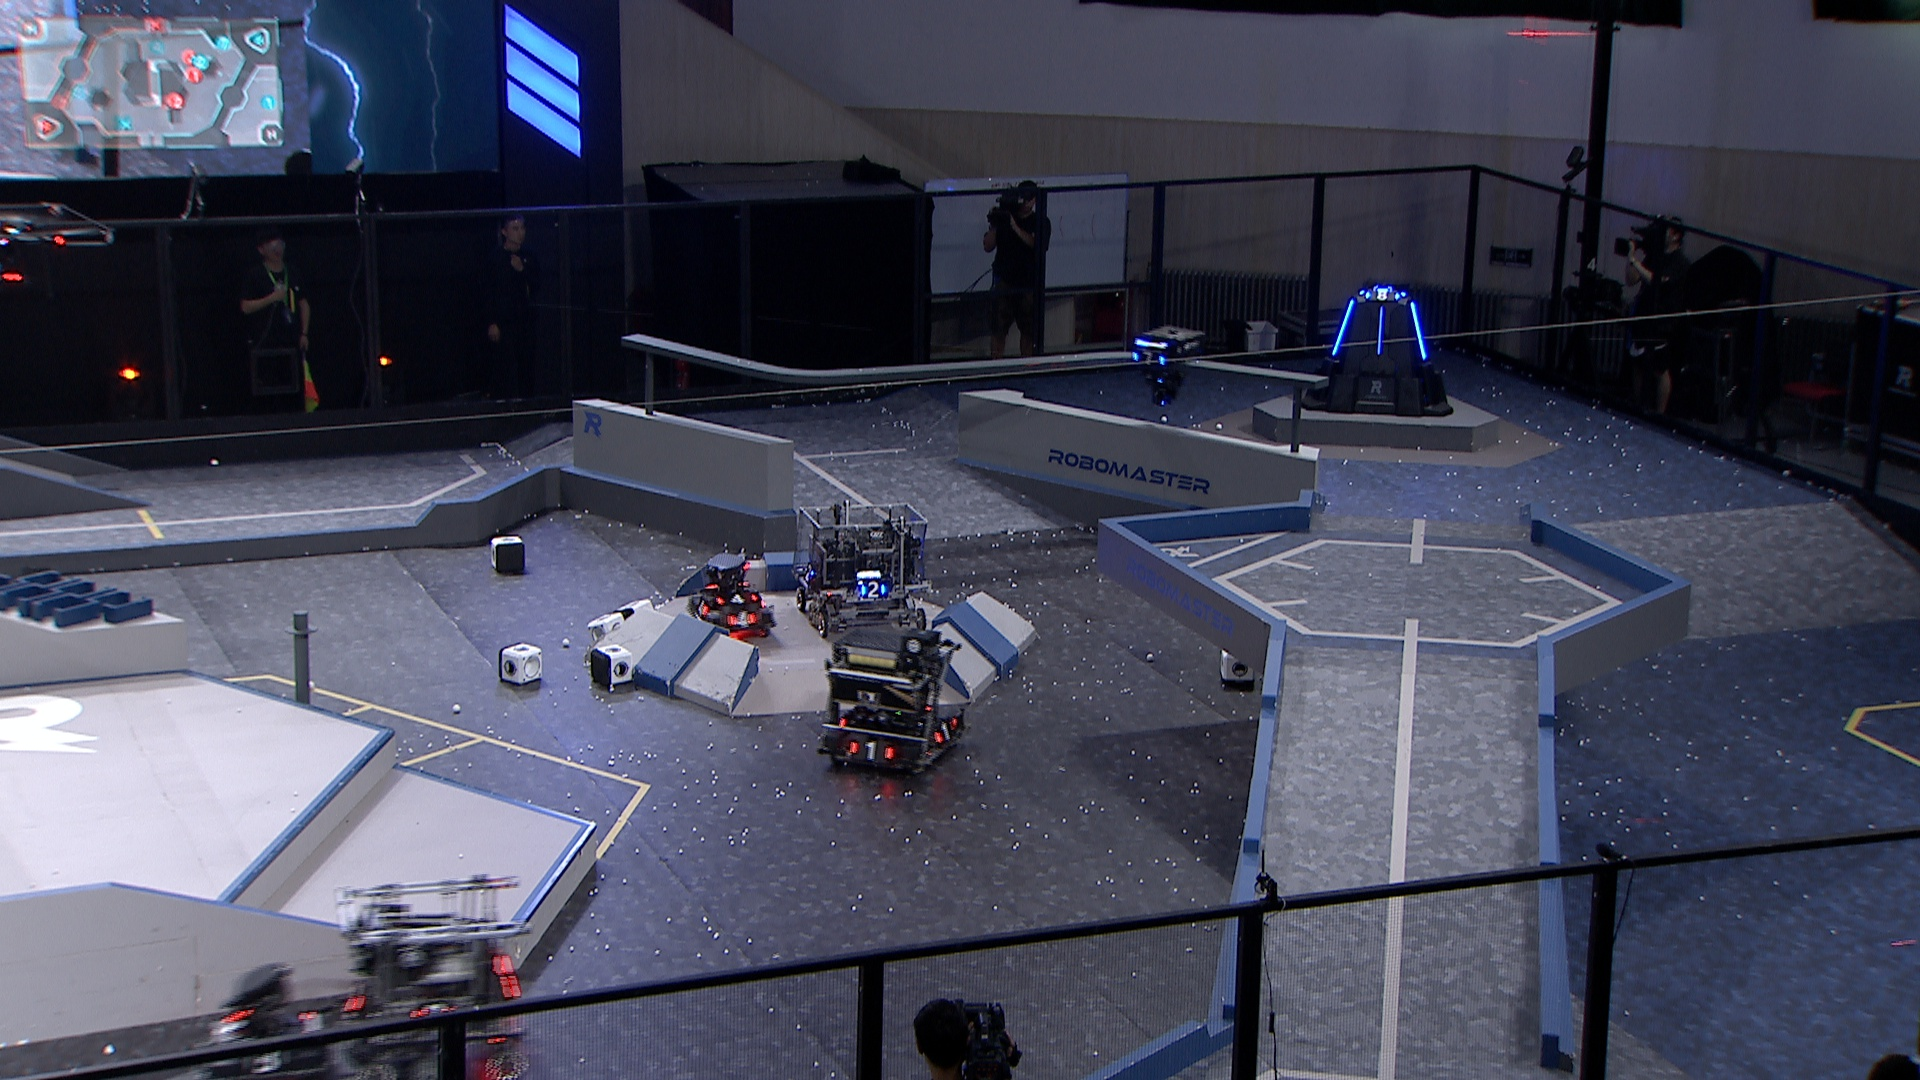armor: (1332, 299, 1358, 360), (1408, 301, 1429, 363), (247, 1048, 286, 1077), (847, 740, 894, 764), (932, 713, 959, 746), (214, 1015, 245, 1040), (1130, 349, 1166, 371), (713, 591, 760, 605), (724, 611, 760, 628), (858, 580, 887, 600), (1365, 289, 1400, 305), (1375, 305, 1386, 357), (798, 560, 814, 583), (694, 599, 709, 618)
base: (1295, 286, 1457, 419)
car: (334, 874, 539, 1077), (816, 622, 968, 783), (789, 502, 931, 641), (200, 957, 338, 1080), (686, 553, 775, 642)
watcher: (1129, 324, 1200, 406)
